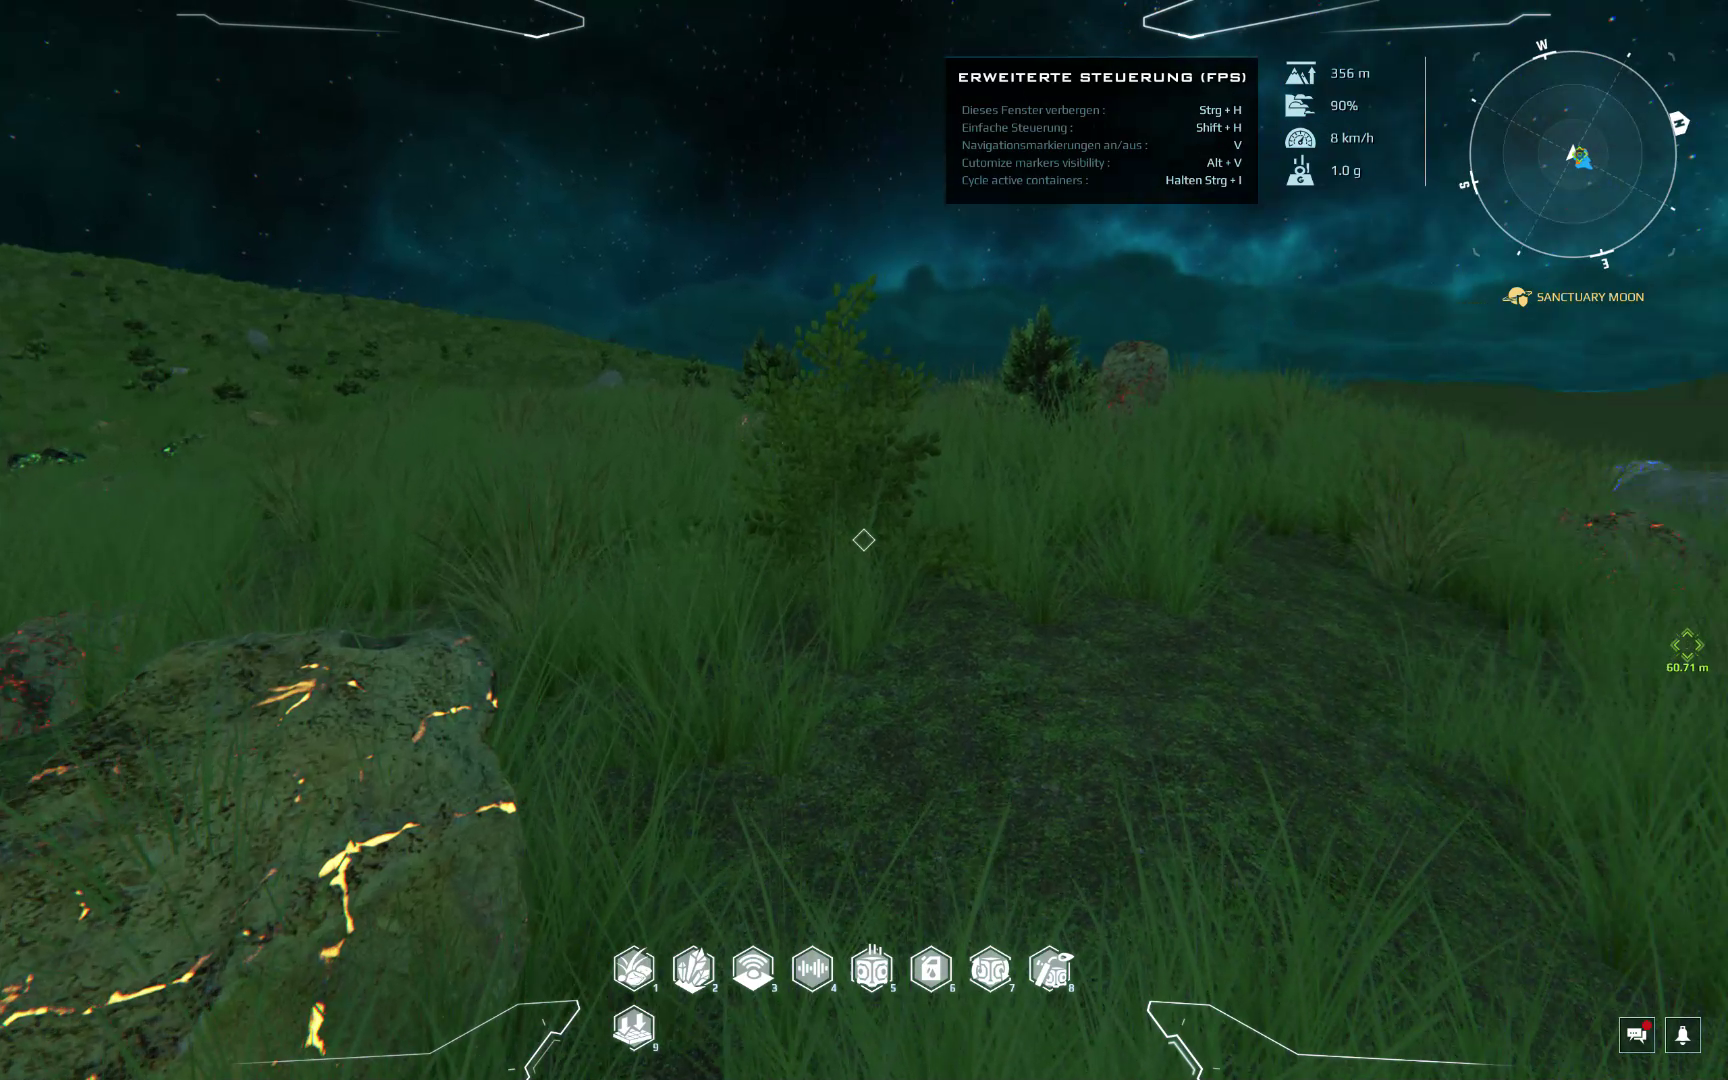Ore: (7, 625, 532, 1080), (1559, 501, 1728, 611), (2, 617, 75, 729), (1605, 450, 1728, 513), (1097, 337, 1174, 418), (1, 445, 95, 479), (159, 440, 182, 458)
